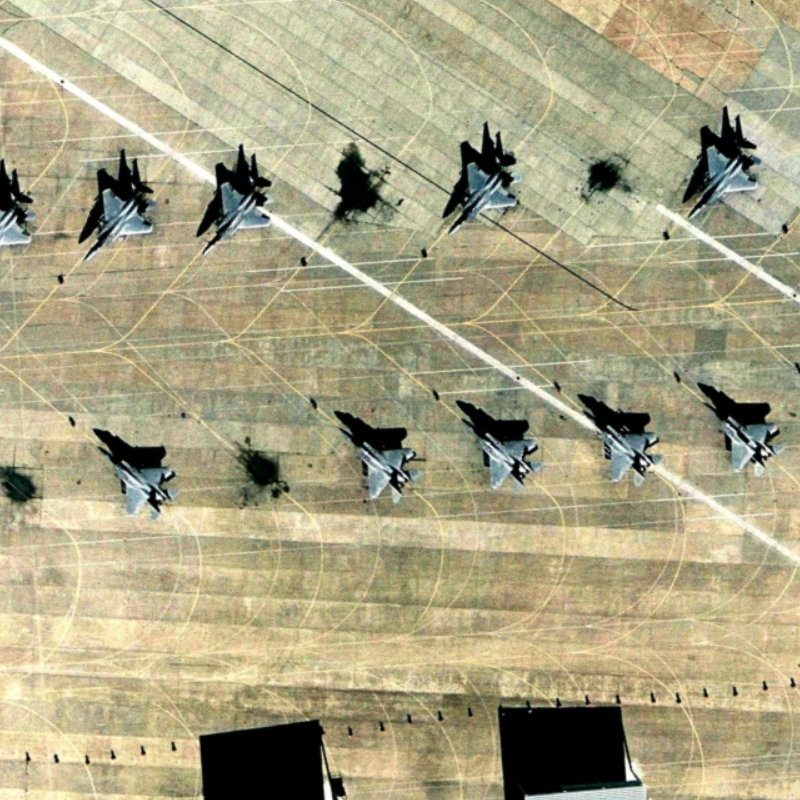A13: (453, 405, 549, 497), (87, 433, 186, 522), (331, 419, 429, 505), (577, 405, 670, 491), (680, 128, 765, 222), (193, 167, 278, 258), (78, 176, 161, 269), (699, 397, 789, 481), (441, 154, 523, 242)
